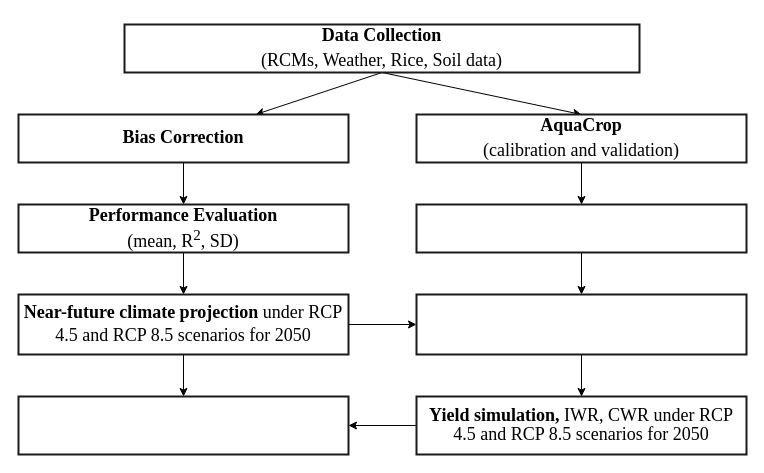
This 764x473 diagram has some shape labels left out. The shapes that lost their labels are listed below. From the top down, each one's centre as x and y in pixels, then its label:
point (581, 228): Performance Evaluation (mean, R 2 , RMSE)
point (581, 324): Yield simulation, IWR, CWR under present condition
point (183, 425): Future Water Footprint simulation
